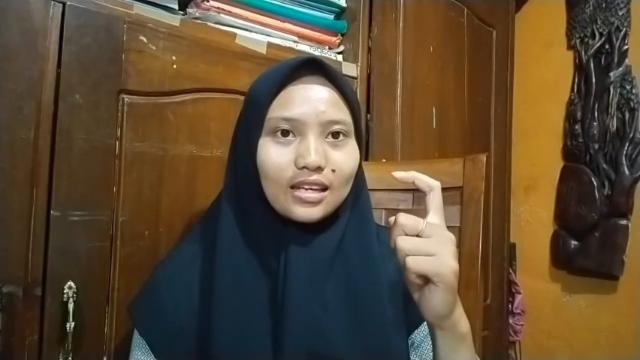X: (384, 165, 466, 325)
